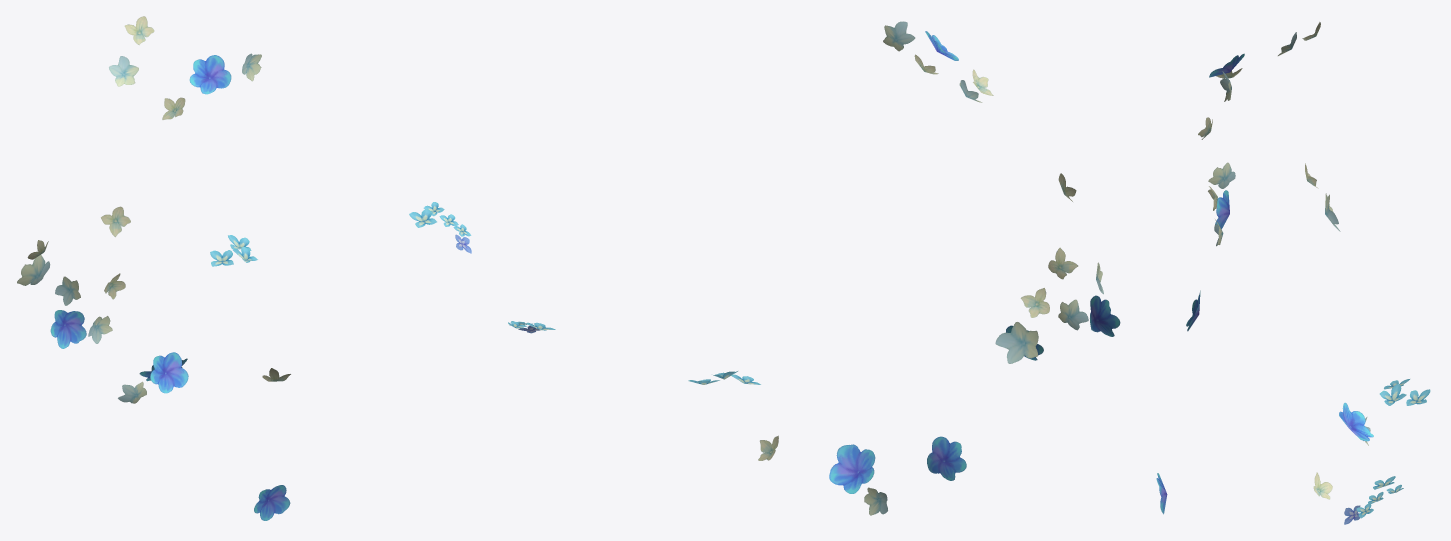
Rendered from Homeworld_Exterior_Xm_Decoration_Prop_Swing_02_Vo.fbx.
3 renders of one model, left to right at view 1: azimuth 30°, elevation 25°; view 2: azimuth 150°, elevation 25°; view 3: azimuth 270°, elevation 25°, orthographic. The views are drawn at different scales.
Visible parts, largest first — view 1: Homeworld_Exterior_Xm_Decoration_Prop_Swing_02_Vo; view 2: Homeworld_Exterior_Xm_Decoration_Prop_Swing_02_Vo; view 3: Homeworld_Exterior_Xm_Decoration_Prop_Swing_02_Vo.
Boxes of the visible parts, box(x1,y1,x2,y2) form: Homeworld_Exterior_Xm_Decoration_Prop_Swing_02_Vo: box(17, 16, 471, 520); Homeworld_Exterior_Xm_Decoration_Prop_Swing_02_Vo: box(508, 21, 1120, 515); Homeworld_Exterior_Xm_Decoration_Prop_Swing_02_Vo: box(1156, 22, 1430, 524).
Bounding box in the file's own units: 4.4 × 3.94 × 2.15.
1 material, 1 textured.
